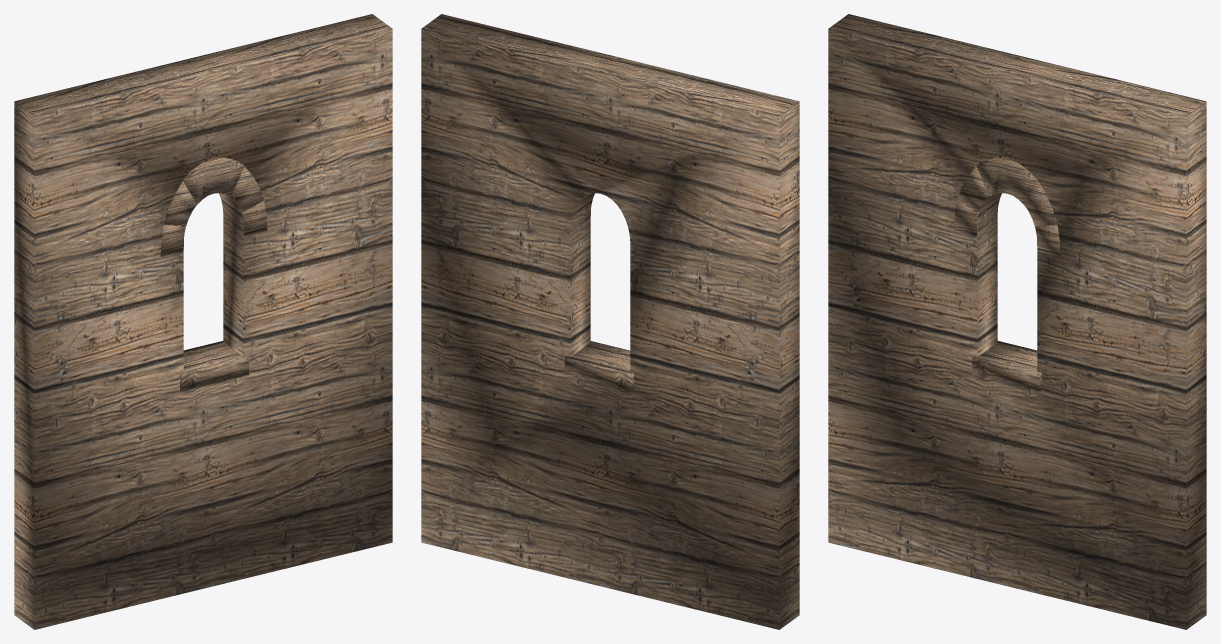
File: wood window2.glb
3 views of the same model, side by side, from view 1: azimuth 30°, elevation 25°; view 2: azimuth 150°, elevation 25°; view 3: azimuth 330°, elevation 25° (orthographic).
Parts seen in each view (by area): view 1: Arch Window Wall.002; view 2: Arch Window Wall.002; view 3: Arch Window Wall.002.
Boxes of the visible parts, x1=… form: Arch Window Wall.002: x1=14, y1=14, x2=392, y2=629; Arch Window Wall.002: x1=421, y1=14, x2=799, y2=629; Arch Window Wall.002: x1=828, y1=14, x2=1206, y2=629.
Bounding box in the file's own units: 2 × 2.74 × 0.225.
Materials: 2 (2 with a texture image).
